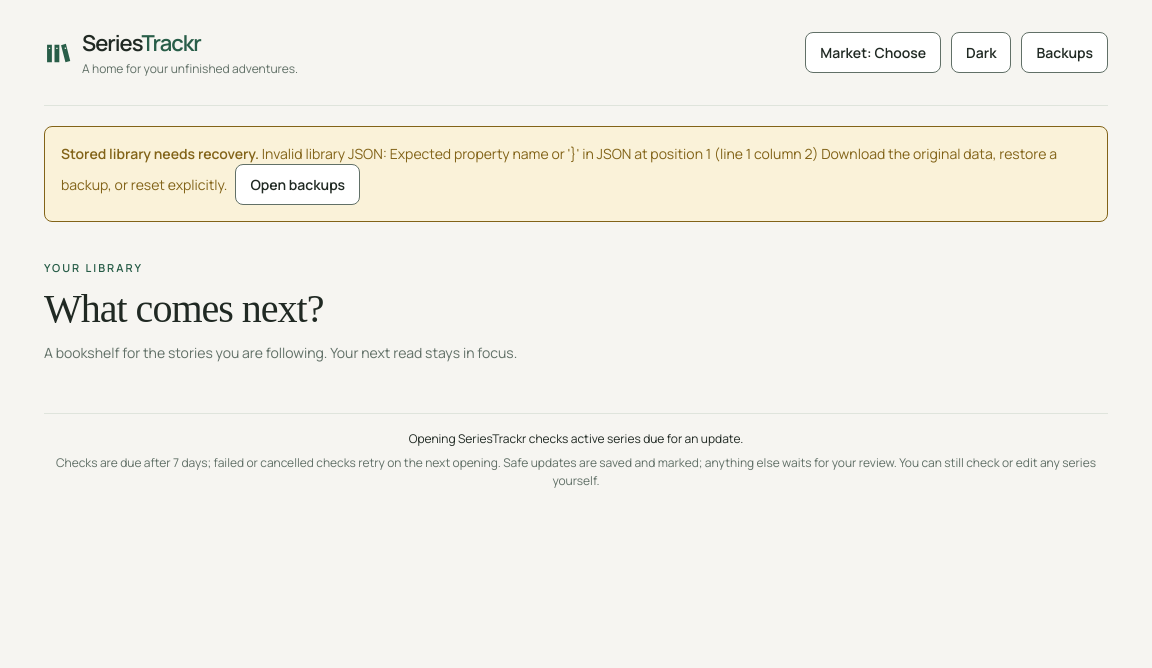
Test: failed recovery reset still exposes original raw data for download
Click the button "Backups": x=1065, y=52 [1022, 32, 1108, 73]
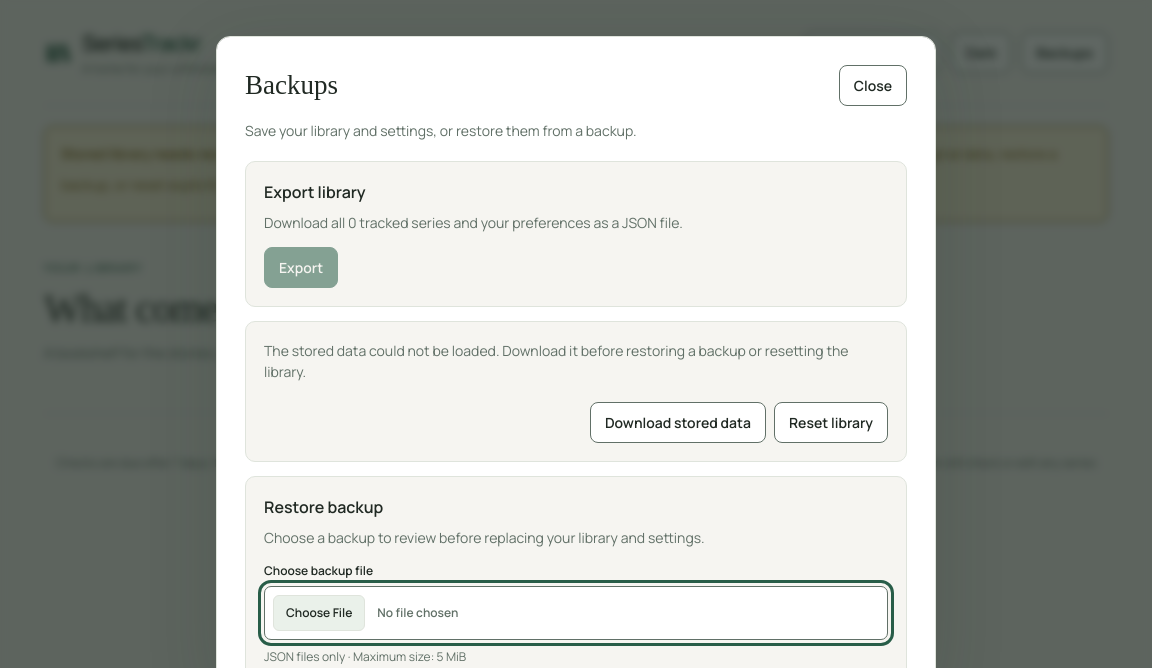
Click the button "Reset library": x=831, y=422 [774, 402, 888, 442]
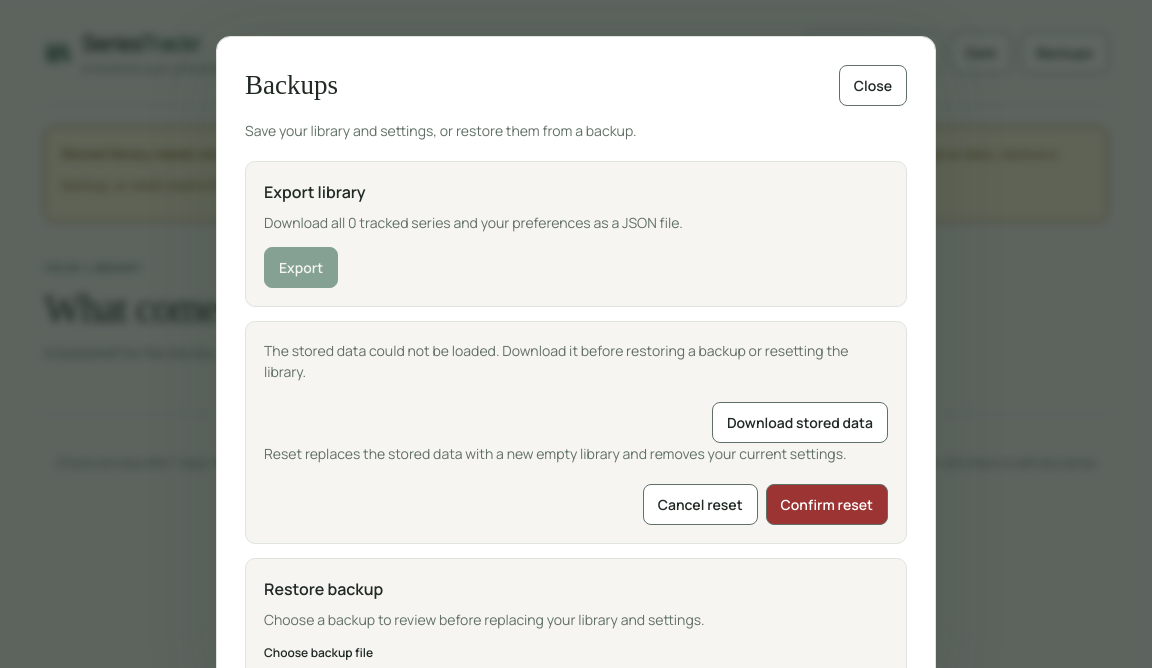
Click the button "Confirm reset": x=827, y=504 [766, 484, 888, 524]
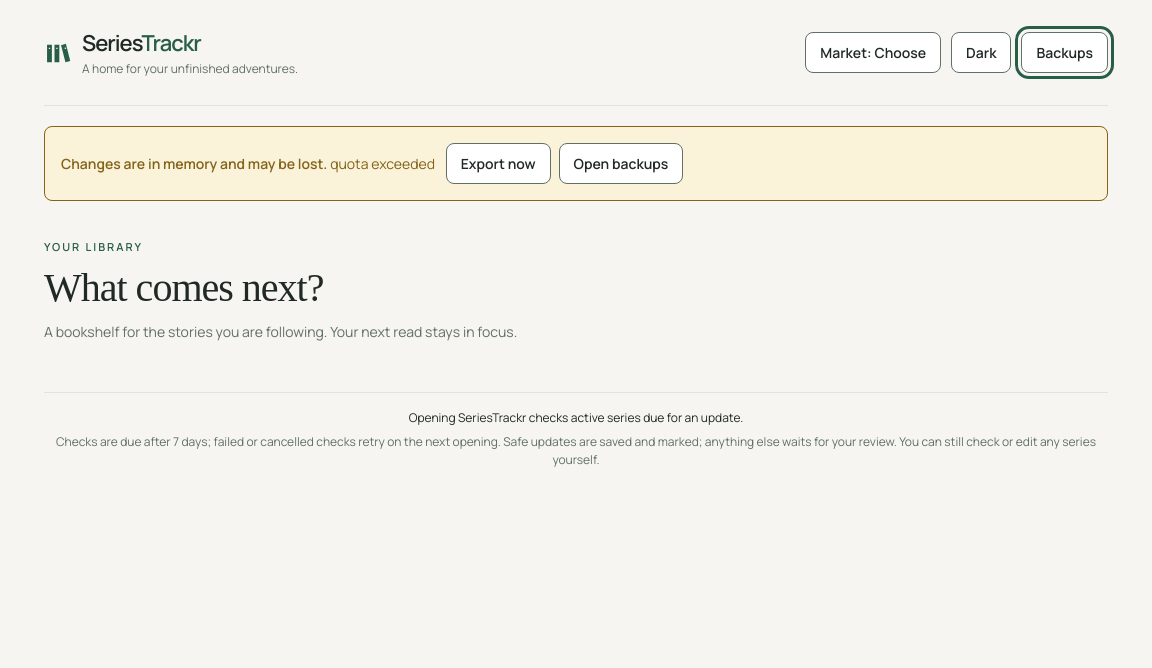
Now the message shows "quota exceeded", box [330, 154, 435, 173]
Click the button "Backups": x=1065, y=52 [1022, 32, 1108, 73]
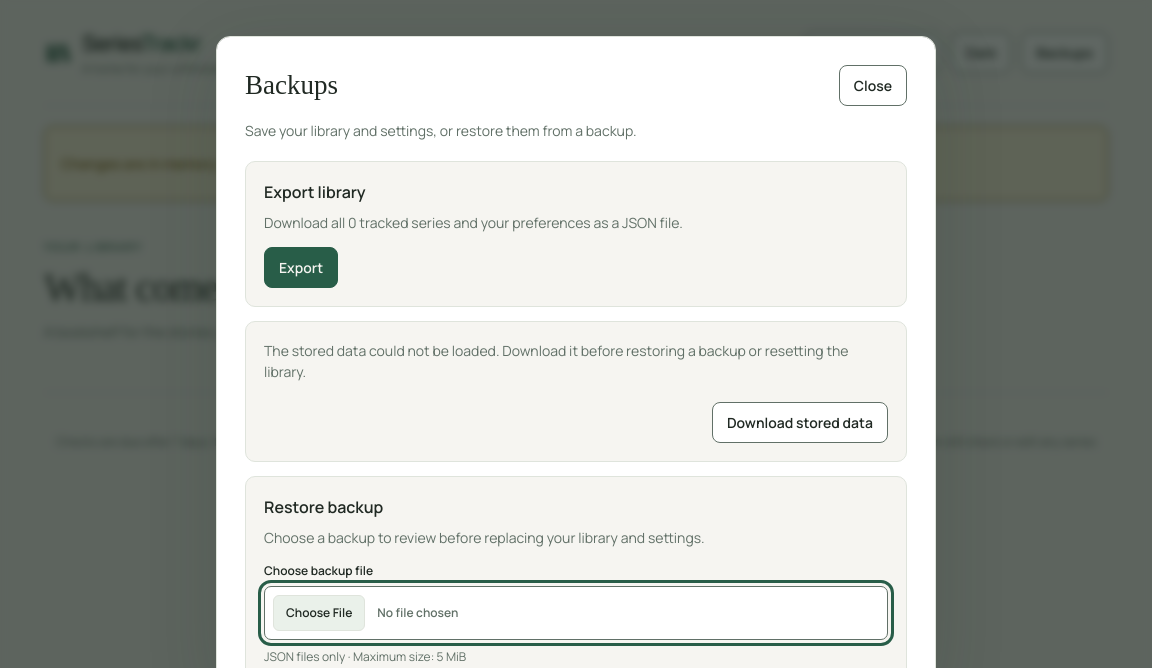
Now the button "Download stored data" is enabled, box [712, 402, 888, 442]
Now the button "Export" is enabled, box [264, 246, 338, 288]
